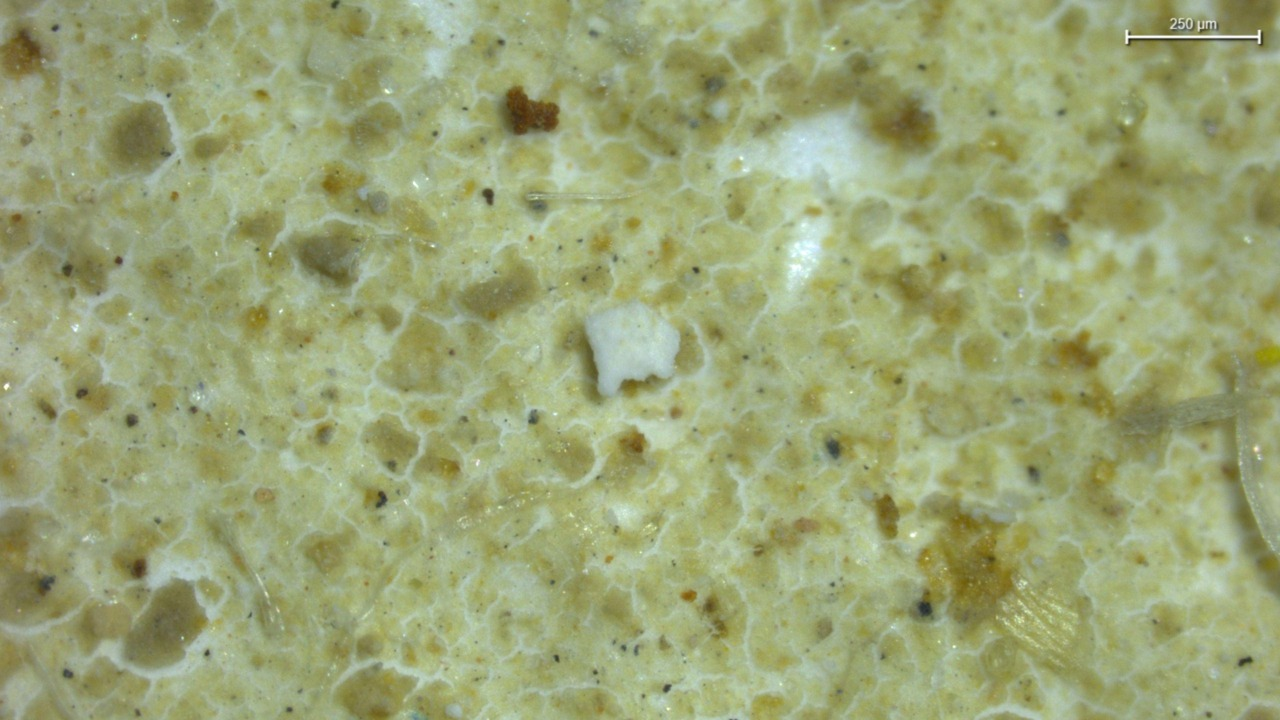microplastic_fragment: (585, 302, 680, 396)
